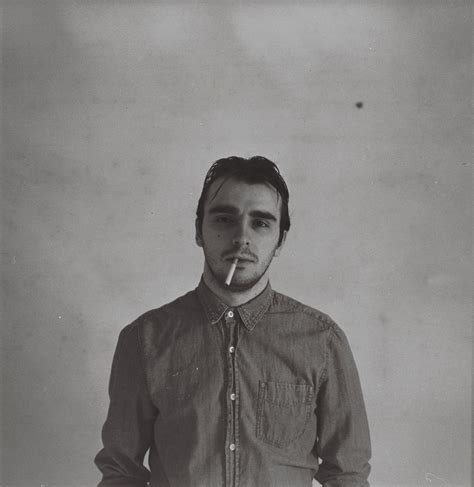cigarette: (224, 257, 241, 286)
